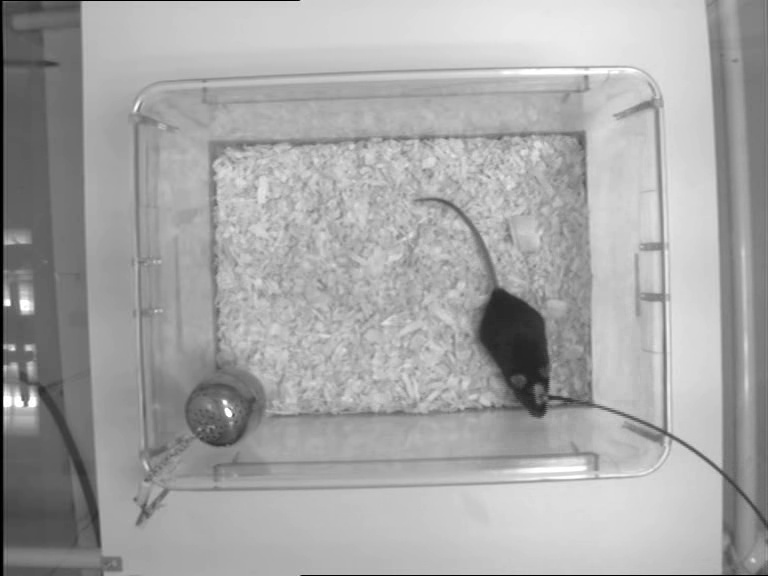mice: (417, 196, 552, 420)
